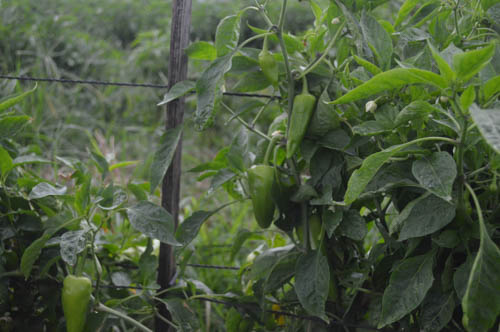ChiliPepper: (248, 166, 278, 226), (287, 95, 315, 158), (62, 276, 90, 332), (255, 53, 277, 83)
